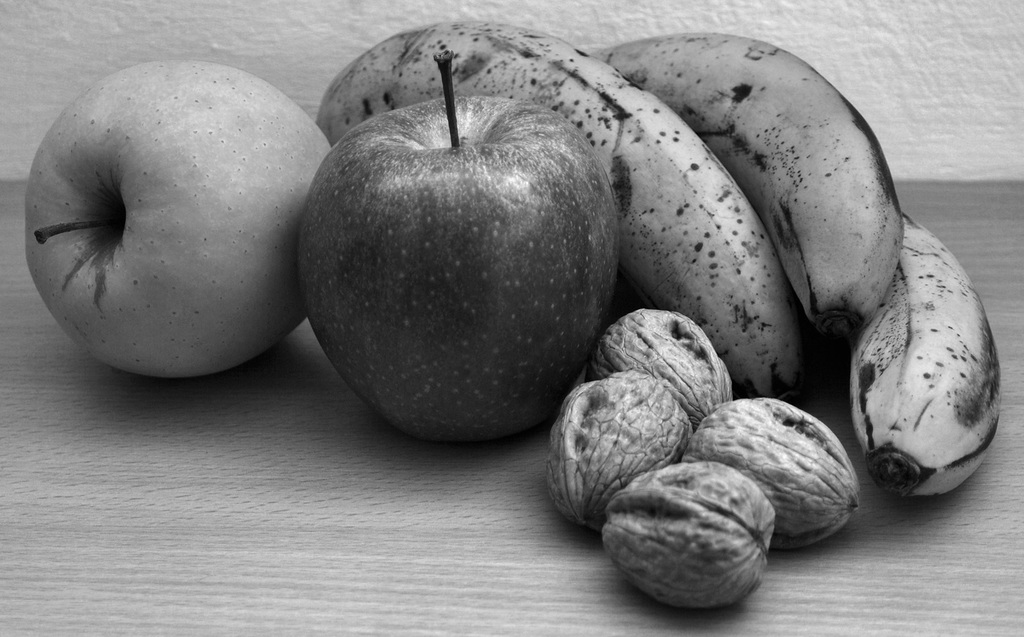Apple: (290, 77, 625, 432), (21, 60, 334, 385)
